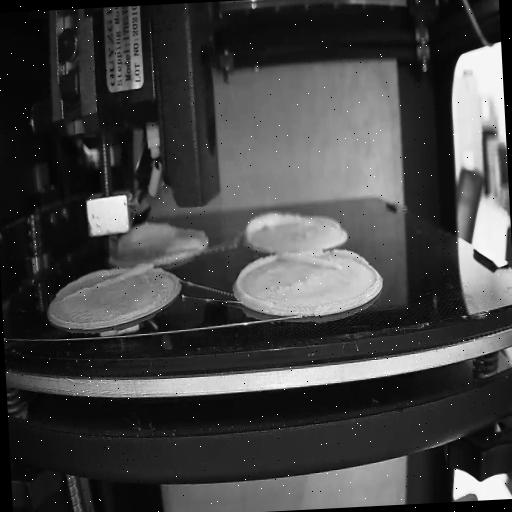over_extrusion: (59, 260, 158, 306), (235, 252, 281, 310), (280, 247, 368, 273), (243, 206, 301, 242), (122, 222, 182, 244), (312, 214, 341, 232)
